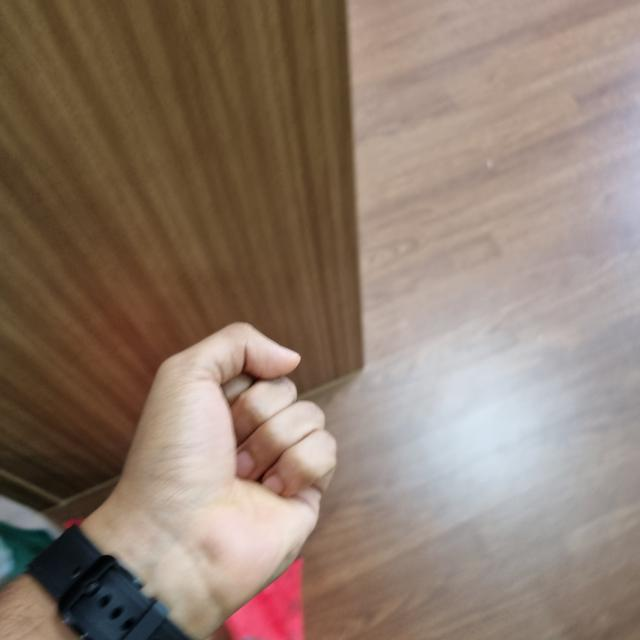Rock: (107, 332, 319, 629)
